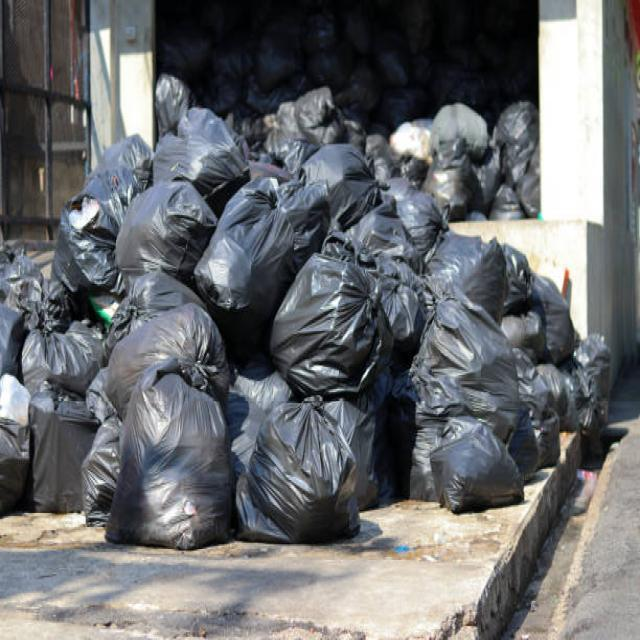garbage: (18, 82, 604, 540)
